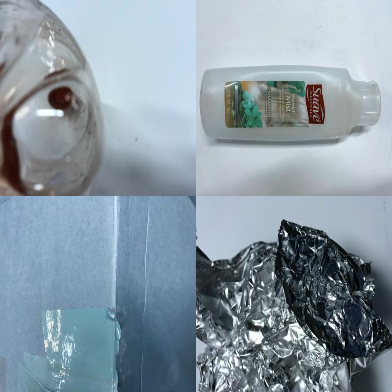cardboard: (1, 195, 196, 392)
metal: (197, 218, 392, 392)
plastic: (1, 1, 106, 194), (199, 65, 381, 142)
